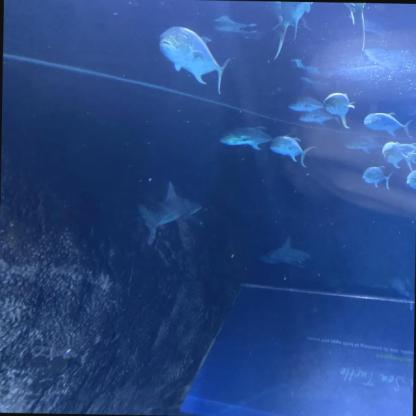fish: (159, 26, 232, 94), (261, 0, 323, 60), (327, 2, 367, 53), (220, 126, 295, 150), (270, 136, 316, 167), (363, 112, 414, 137), (324, 93, 355, 129), (382, 141, 414, 171), (343, 134, 383, 154), (361, 165, 394, 189), (298, 110, 342, 126), (288, 96, 324, 111), (396, 142, 416, 166), (405, 169, 415, 196)
shark: (136, 180, 203, 246), (260, 235, 310, 269)
